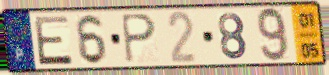2: (166, 10, 198, 66)
6: (74, 13, 110, 67)
8: (216, 11, 249, 61)
9: (256, 6, 292, 65)
E: (32, 14, 75, 68)
P: (119, 13, 158, 65)
